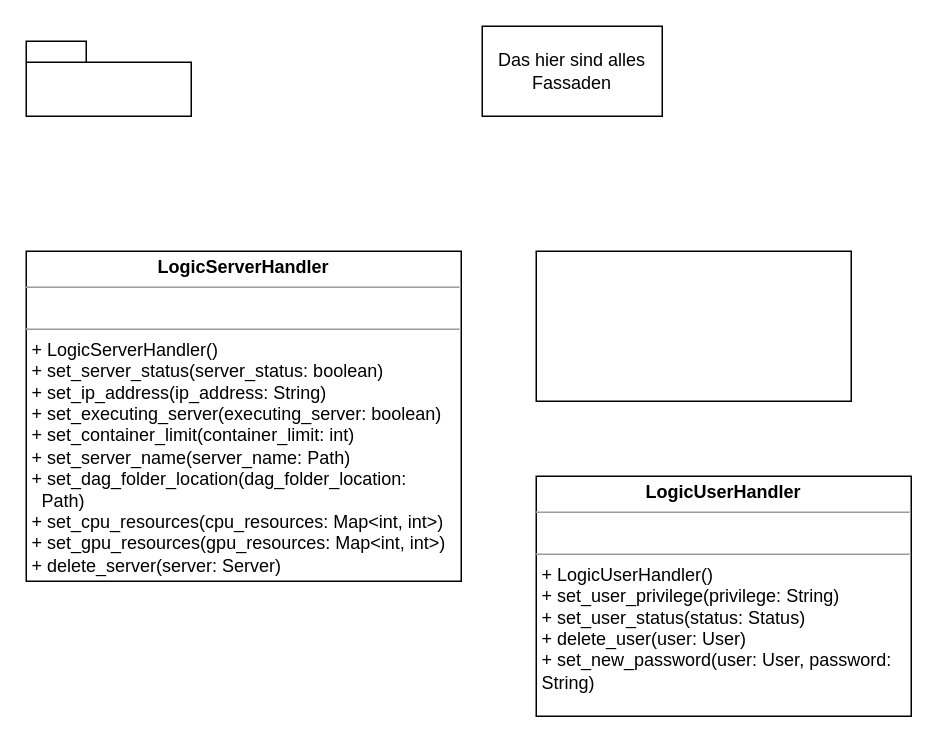
The diagram is 938 pixels wide and 743 high, and some of its shapes have lost their labels. The shapes that lost their labels are listed below. From the top down, each one's box as (x1, y1, x2, y2) in pixels, then its label:
(25, 40, 191, 116): LogicHandler
(535, 250, 851, 401): LogicDatabaseHandler +LogictDatabaseHandler() + set_save_path(save_path: Path)
